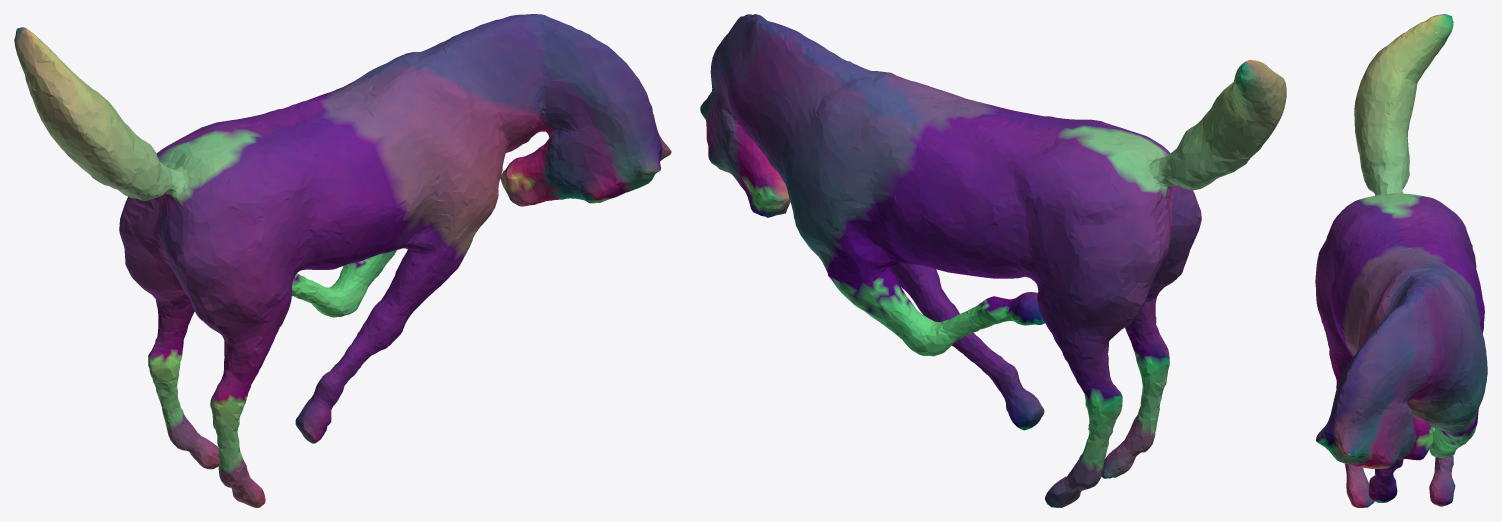
File: horse-16.off.obj
The picture shows the model from 3 angles, left to right: view 1: azimuth 30°, elevation 25°; view 2: azimuth 150°, elevation 25°; view 3: azimuth 270°, elevation 25°; orthographic projection. The views are drawn at different scales.
Size of the model in its own units: 1.5 by 1.15 by 0.4329.
